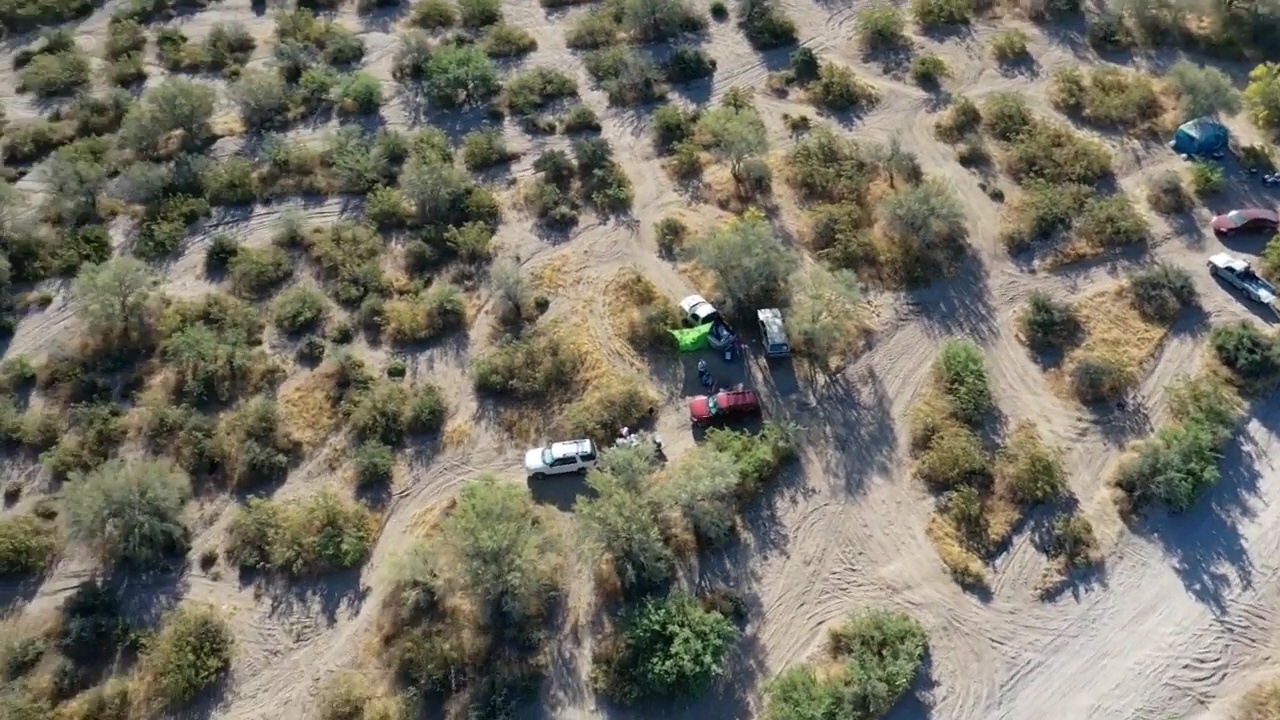araba: (524, 432, 607, 484), (686, 385, 767, 430), (1209, 200, 1280, 238), (758, 303, 794, 360)
insan: (696, 356, 711, 375)
kamyonet: (1208, 248, 1278, 306), (676, 290, 733, 351)
